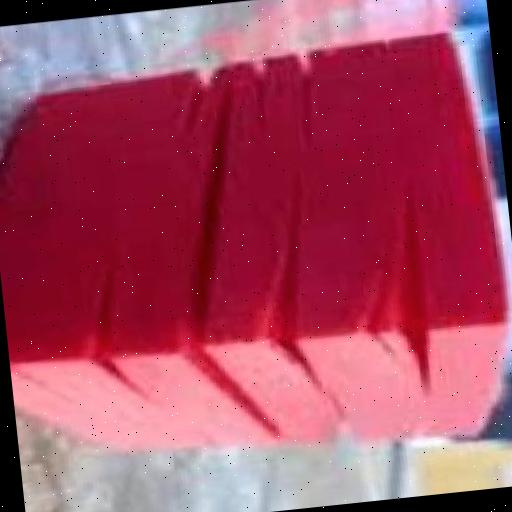cracks: (154, 68, 295, 458), (122, 26, 382, 160), (348, 167, 454, 406), (240, 194, 354, 412), (59, 215, 166, 425)
